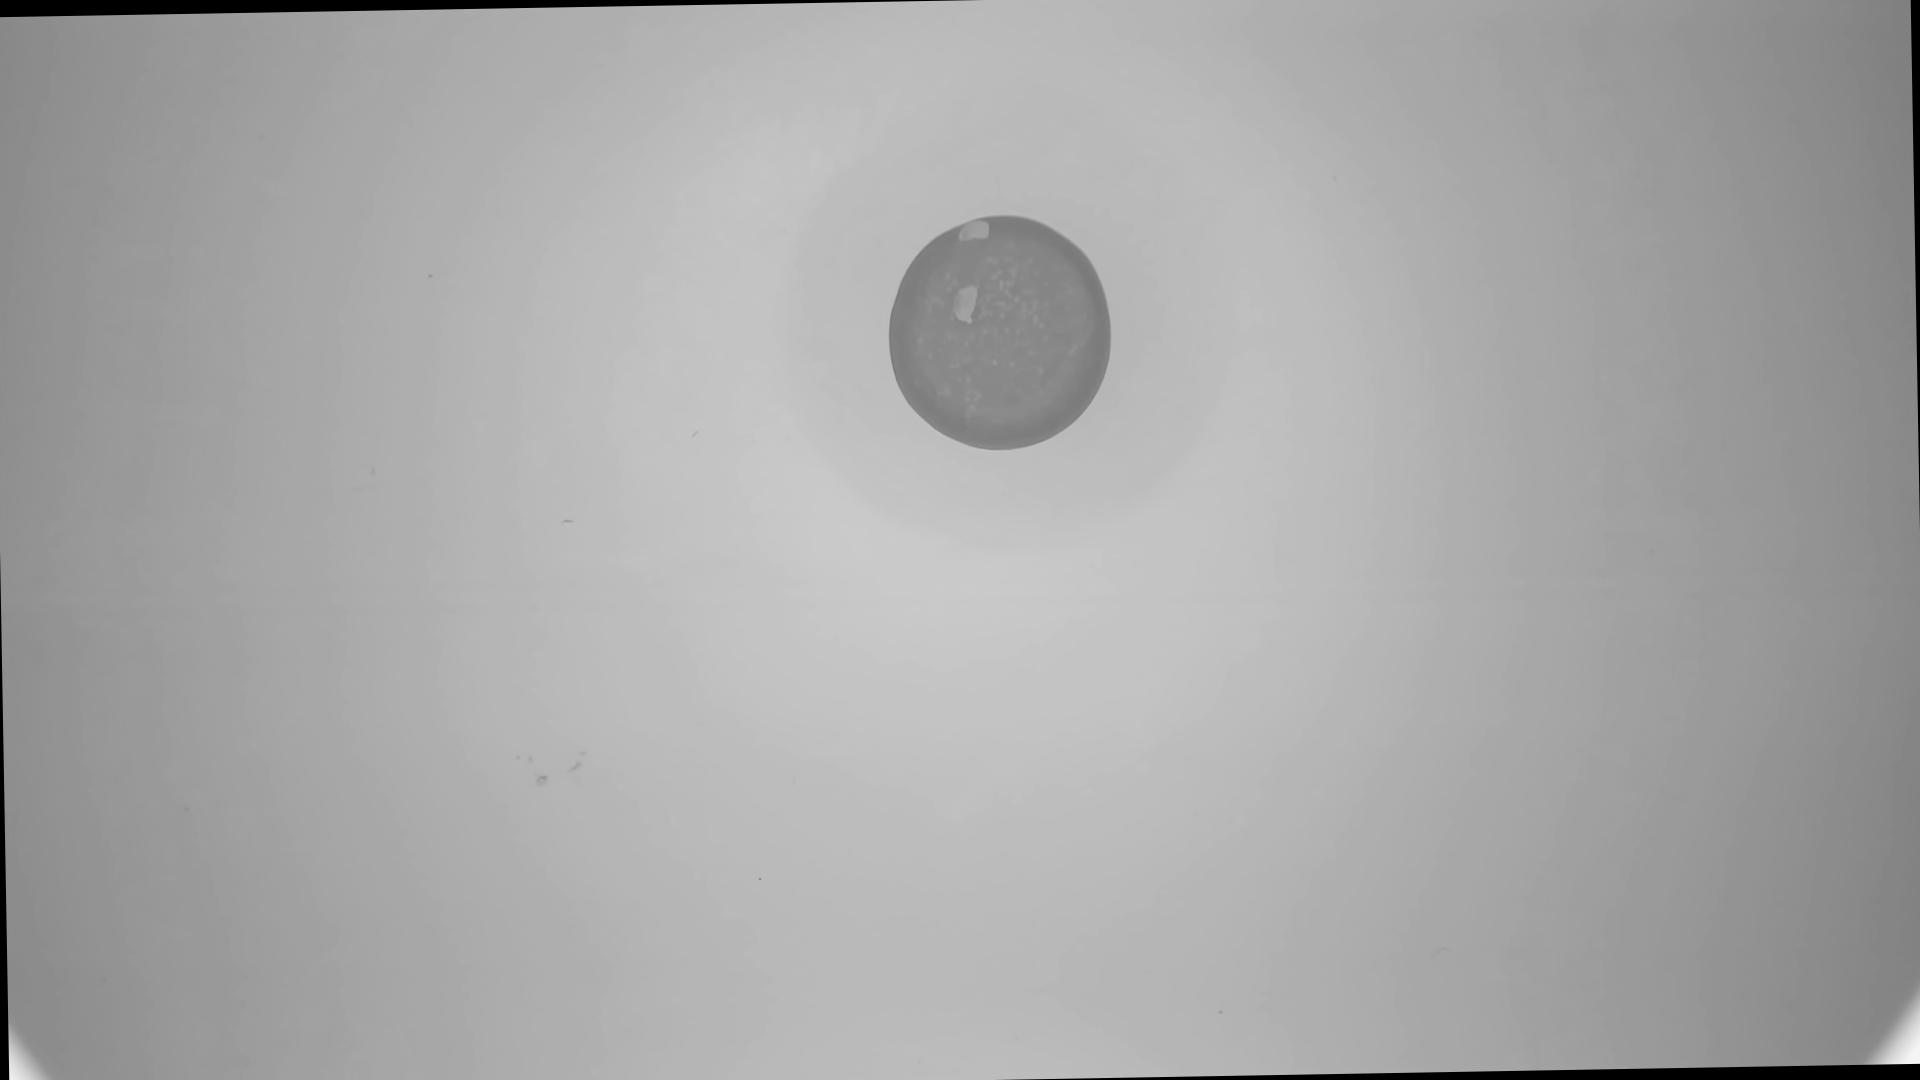abnormal: (887, 212, 1116, 458)
